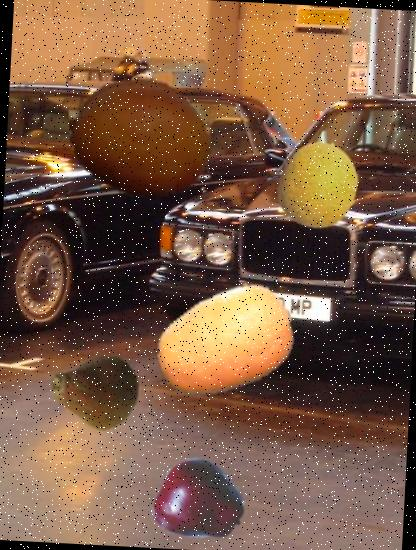Apple: (152, 456, 246, 550)
Apricot: (66, 64, 214, 212)
Cantaloupe: (274, 138, 368, 232)
Kumquats: (153, 268, 300, 416)
Potato: (51, 340, 143, 432)
